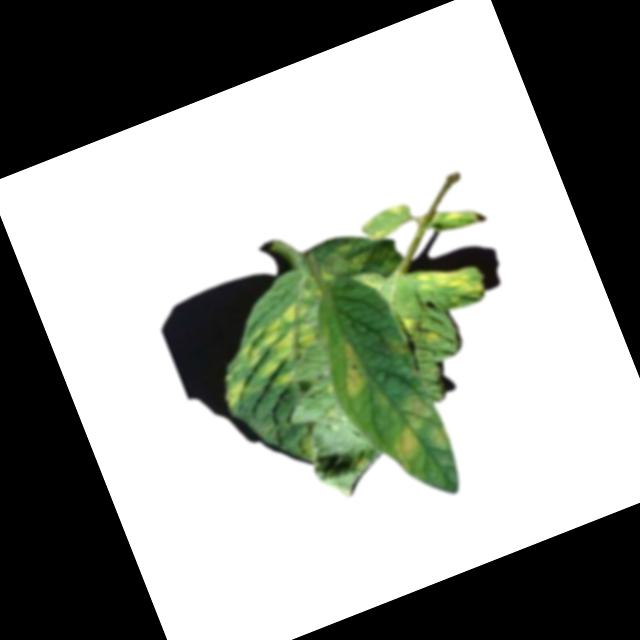Leaf_Mold: (192, 277, 348, 413), (416, 254, 489, 318), (333, 344, 372, 401), (384, 418, 424, 469), (398, 307, 440, 354), (401, 393, 431, 423)
